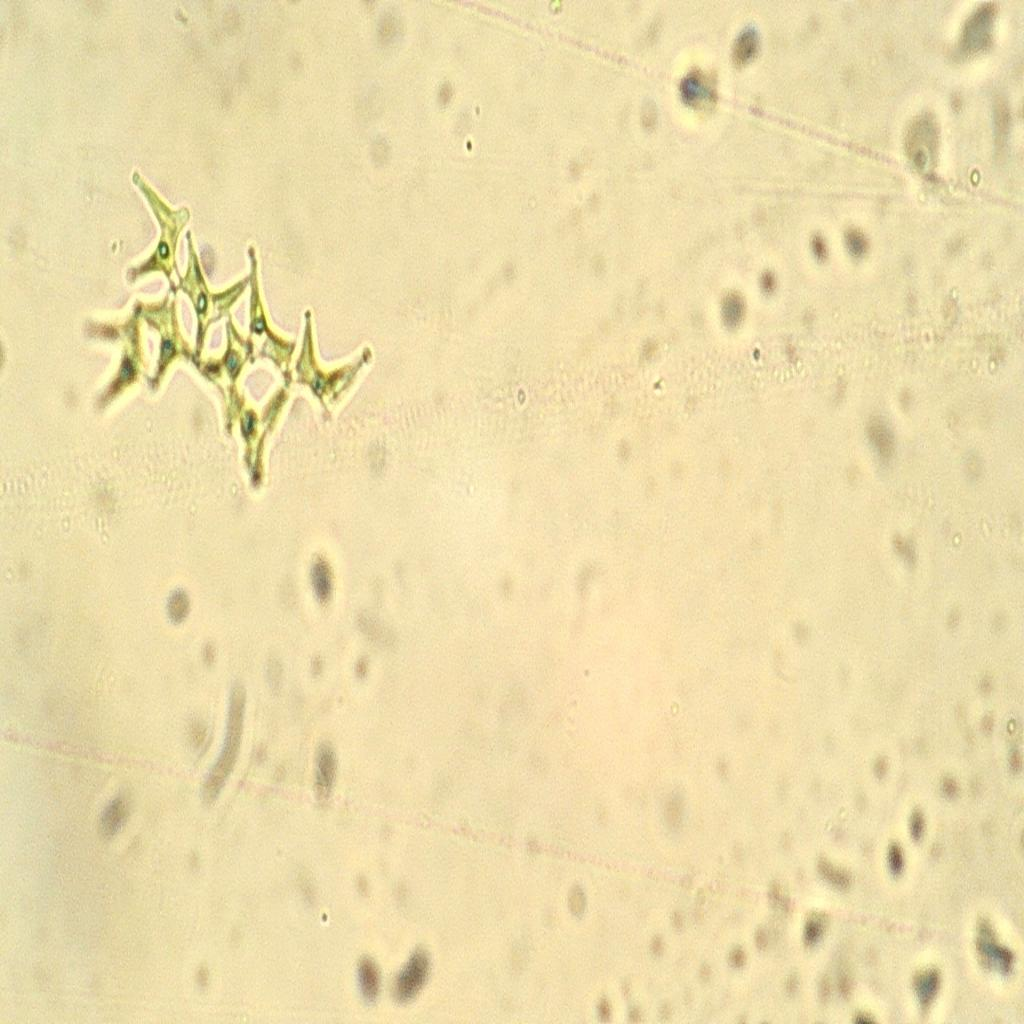Pediastrum_1TH: (57, 136, 382, 543)
